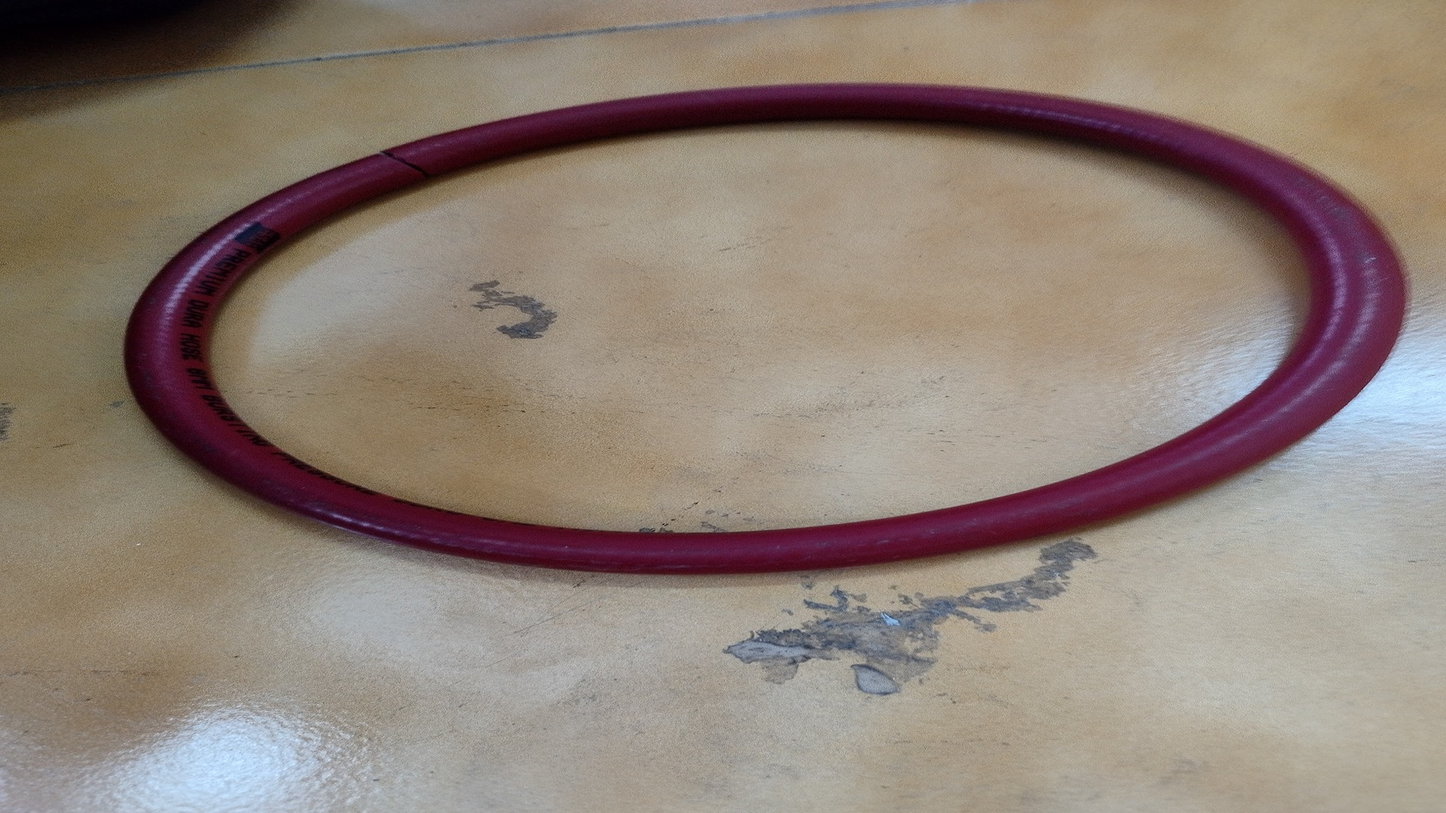Red ring: (124, 82, 1402, 569)
